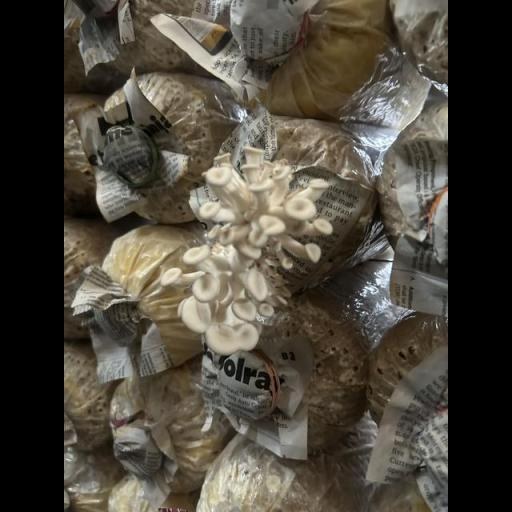White Oyster Mushroom: (146, 133, 339, 361)
